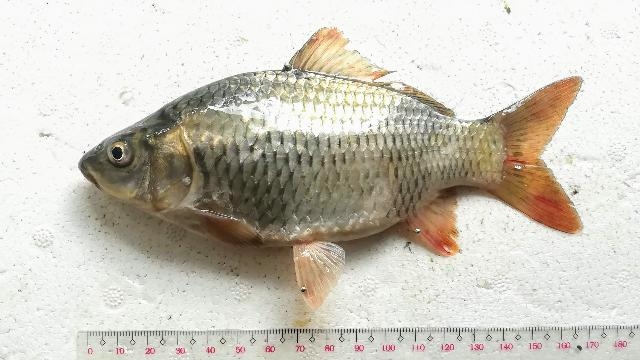Mulut: (64, 132, 118, 204)
Sirip Anal: (397, 178, 467, 268)
Sirip Dada: (171, 195, 279, 262)
Sirip Ekor: (487, 63, 601, 253)
Sirip Perut: (288, 229, 348, 317)
Sirip Punggung: (283, 22, 461, 124)
